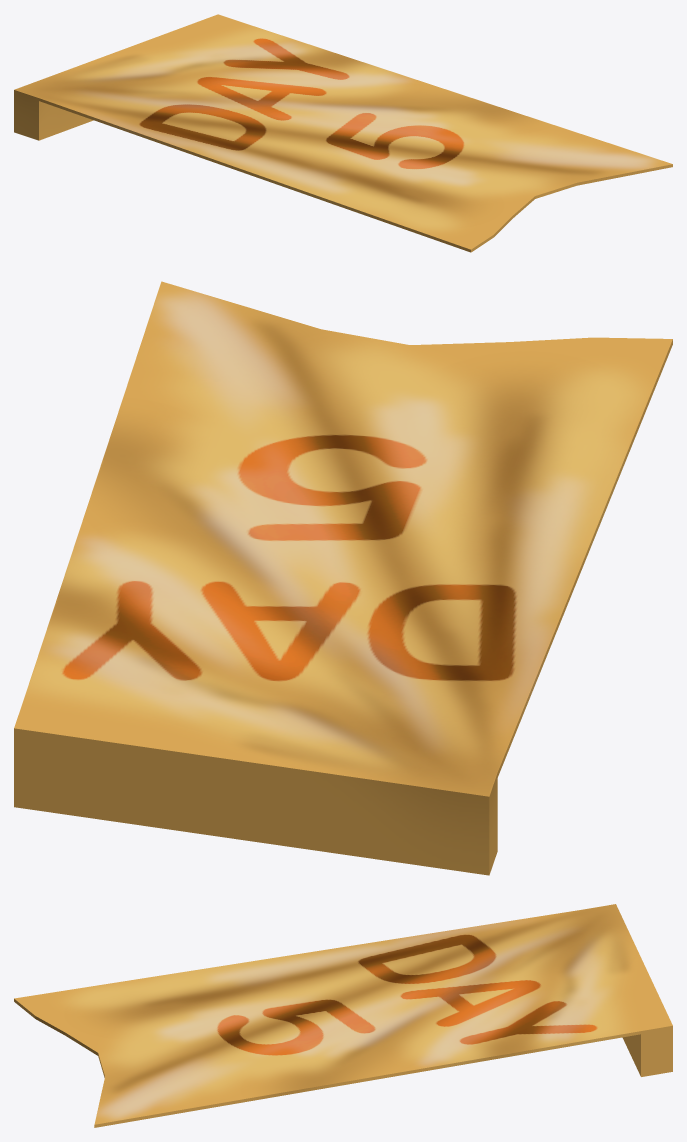
File: level_select_bookmark_5.glb
3 views of the same model, one above another, from view 1: azimuth 30°, elevation 25°; view 2: azimuth 150°, elevation 25°; view 3: azimuth 270°, elevation 25° (orthographic). The views are drawn at different scales.
Parts seen in each view (by area): view 1: Cube; view 2: Cube; view 3: Cube.
Part boxes in pixels (box(x1,y1,x2,y2)): Cube: box(14, 14, 672, 252); Cube: box(14, 281, 672, 875); Cube: box(14, 904, 672, 1127).
Size of the model in its own units: 0.6273 by 0.0611 by 0.7912.
Materials: 1 (1 with a texture image).
